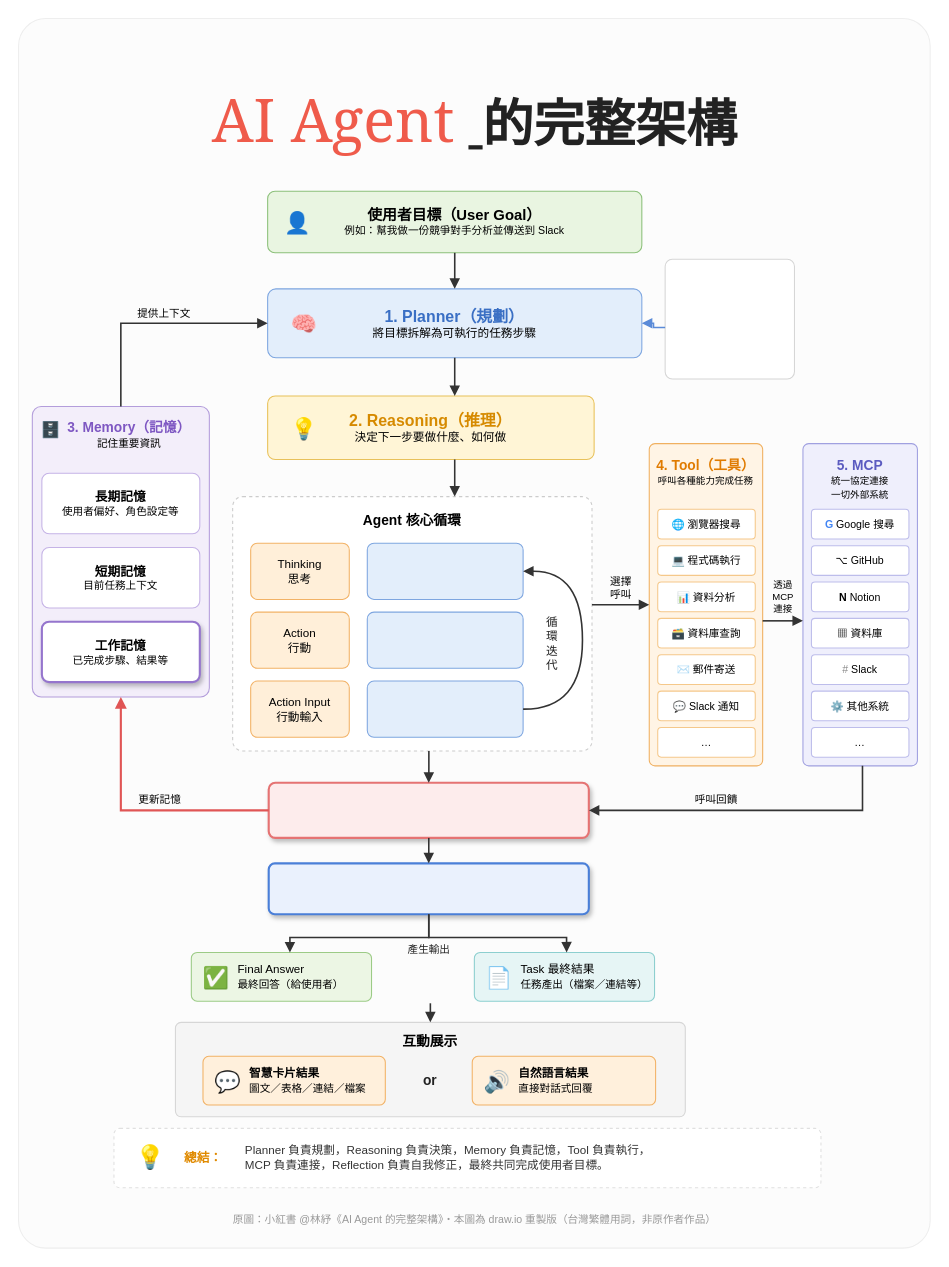
This 949x1267 diagram has some shape labels left out. The shapes that lost their labels are listed below. From the top down, each one's centre as x and y in pixels, then its label:
the point at 729,318: Step 1 蒐集資料 Step 2 整理資訊 Step 3 分析比較 Step 4 製作 PPT Step 5 傳送至 Slack
the point at 444,570: 理解問題、分析目標， 思考解決方案
the point at 444,639: 選擇合適的工具執行任務
the point at 444,708: 準備並傳遞工具所需的參數
the point at 429,811: 6. Reflection（反思） 檢查結果、發現問題、修正並重試
the point at 429,890: Function 呼叫／執行結果 回傳工具執行結果或資料
